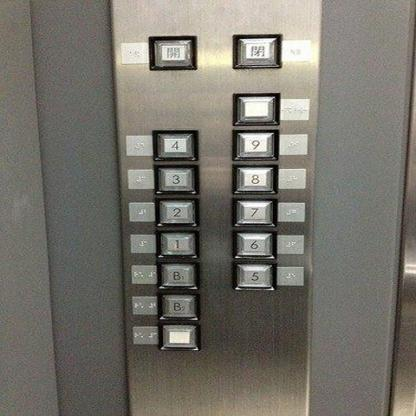1: (155, 229, 198, 257)
2: (154, 196, 198, 226)
3: (154, 164, 198, 194)
4: (151, 127, 198, 160)
5: (231, 260, 278, 290)
6: (231, 230, 278, 259)
7: (231, 196, 278, 228)
8: (231, 163, 278, 194)
9: (231, 127, 278, 160)
B1: (156, 261, 198, 289)
B2: (156, 292, 198, 319)
empty: (230, 90, 281, 126), (159, 322, 199, 350)
text: (146, 34, 198, 70), (230, 32, 282, 68)
